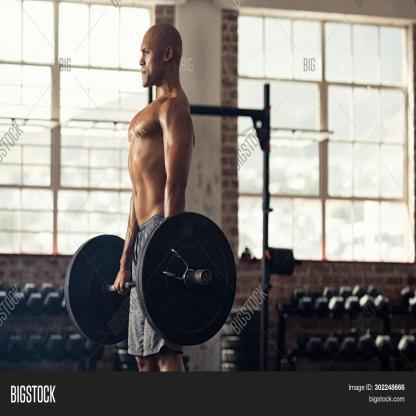Barbell: (132, 206, 246, 349)
